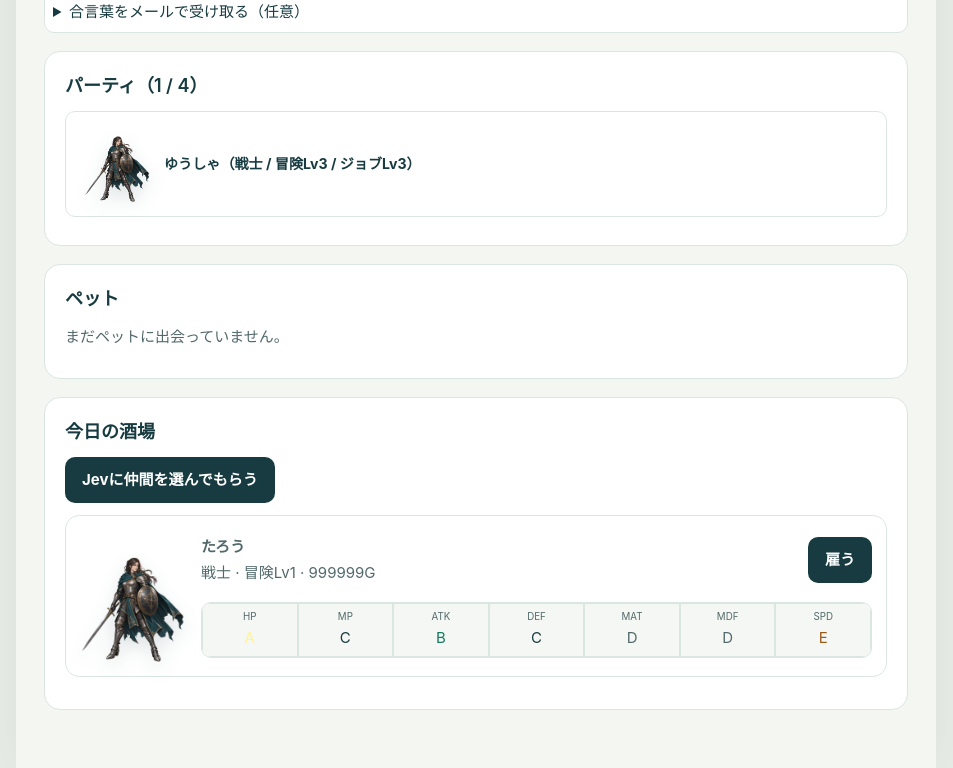
it: 仲間画面（設計書 §5） › 雇用中はボタンが押せない
(page scrolled)
What coordinates should you click on to do the following:
click the button "雇う"
I would click on:
 (840, 560)
Its box is [808, 536, 872, 582].
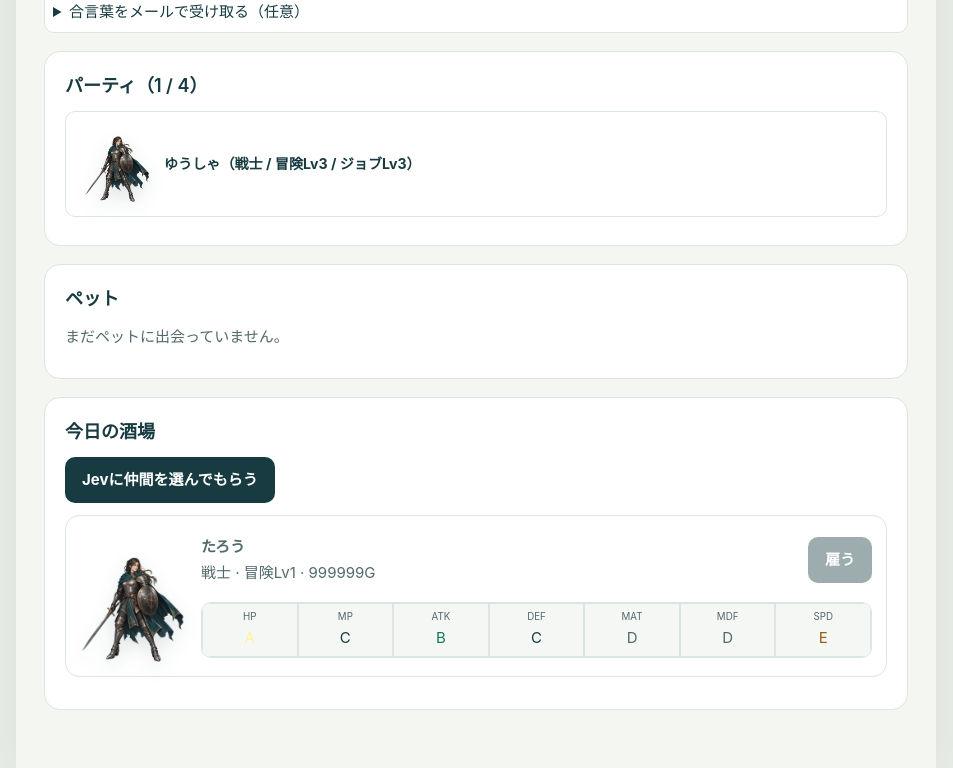
Now the button "雇う" is disabled, box [808, 536, 872, 582]
